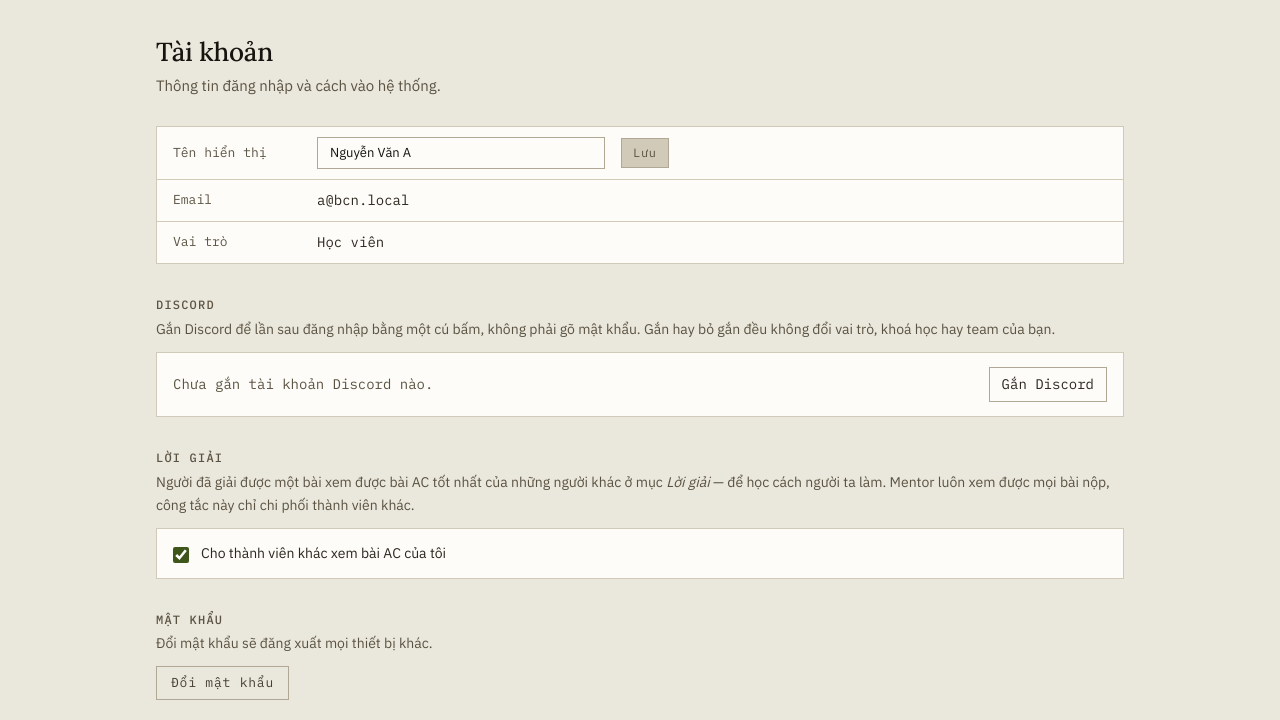
Scenario: đổi tên hiển thị › lưu xong thì ô hiện đúng chuỗi ĐÃ LƯU, không còn khoảng trắng thừa
The width and height of the screenshot is (1280, 720).
Replace the text in the field labelled "Tên hiển thị" with "  Nguyễn Văn B  ": (461, 153) [317,136,605,169]
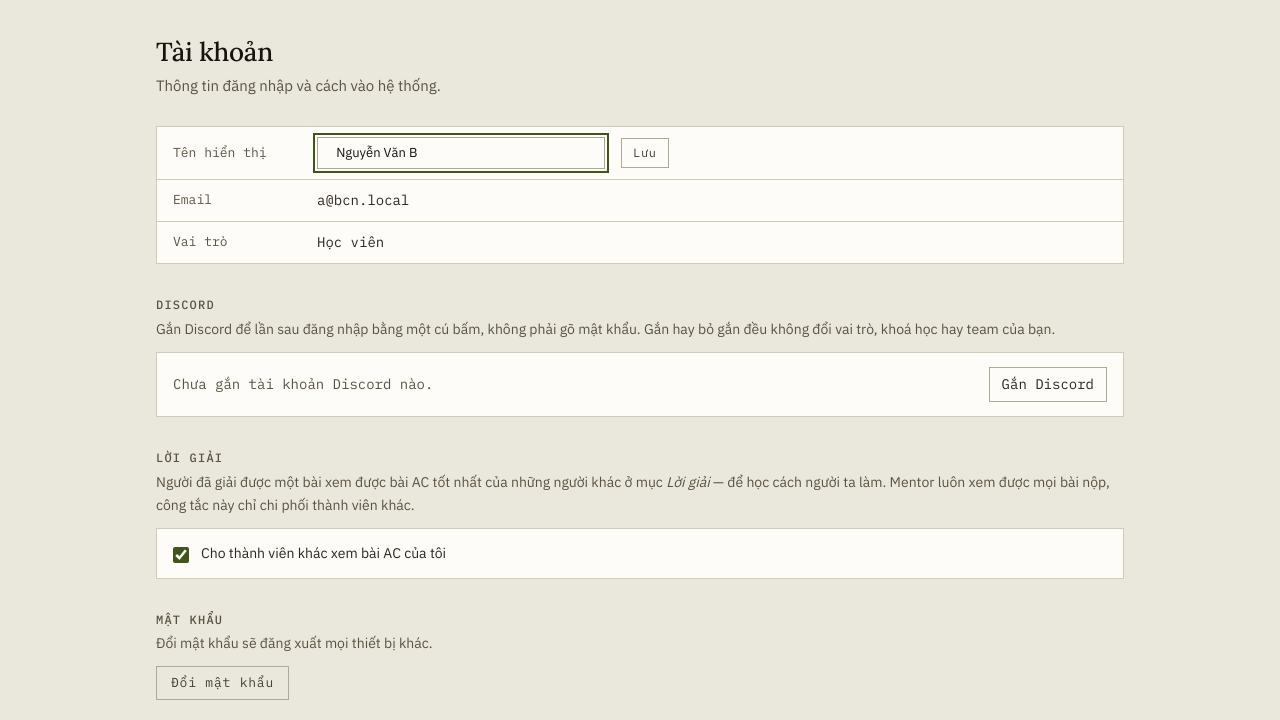
Click the button "Lưu": (645, 153) [621,138,669,168]
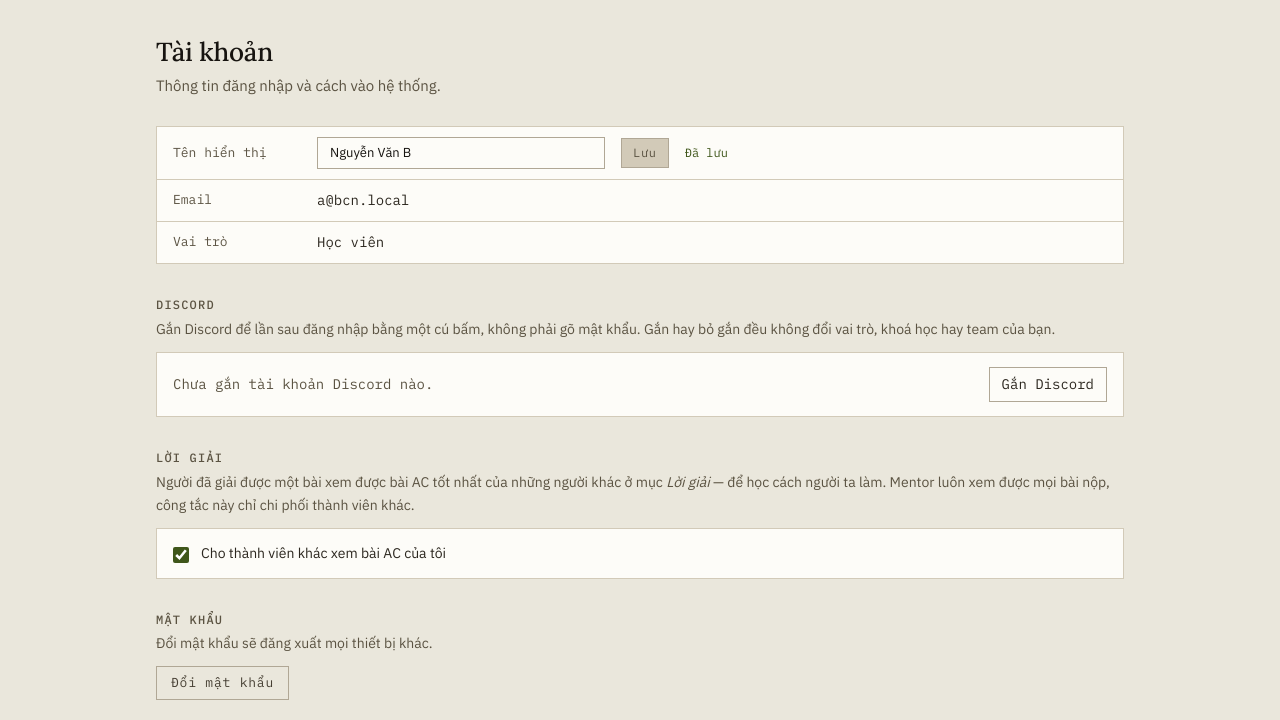
Expected: the text "Đã lưu" is shown, [685,144,728,162]
